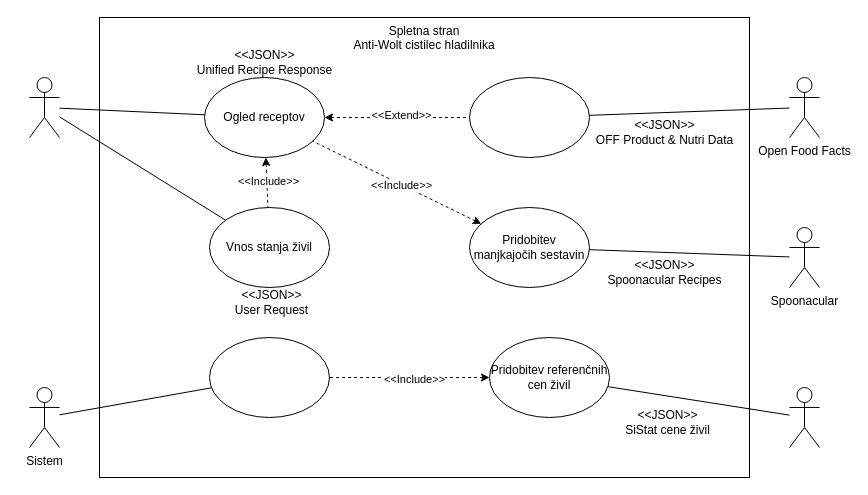
Some shapes in this 868 by 495 pixel diagram are drawn without their labels. The centre of each missing label's shape, as x and y in pixels:
"Pridobitev hranilnih vrednosti in alergenov" belongs at (x=529, y=117).
"Primerjanje cene z dostavo" belongs at (x=269, y=377).
"SiStat" belongs at (x=804, y=417).
"Uporabnik" belongs at (x=44, y=107).
